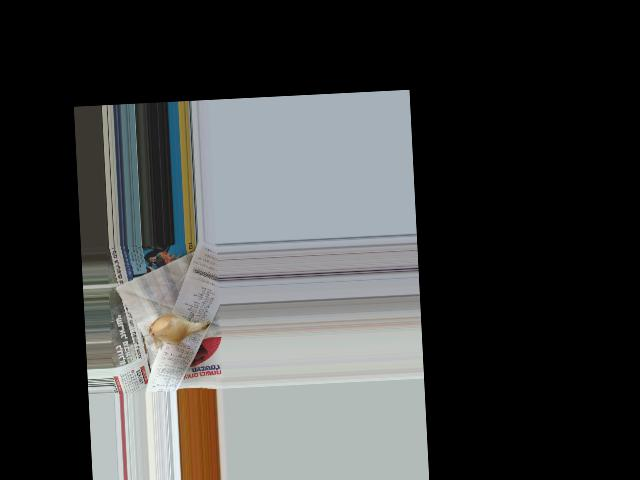onion: (151, 313, 196, 343)
